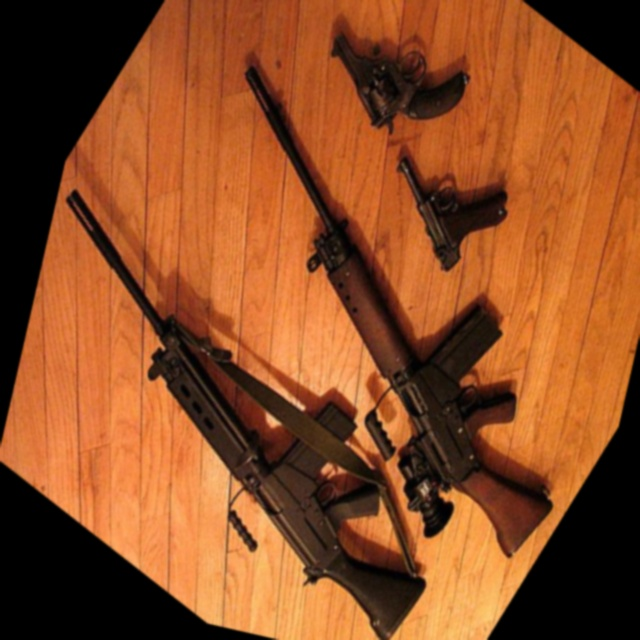gun: (50, 28, 640, 594), (0, 165, 541, 640)
